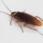cockroach: (10, 12, 42, 26)
